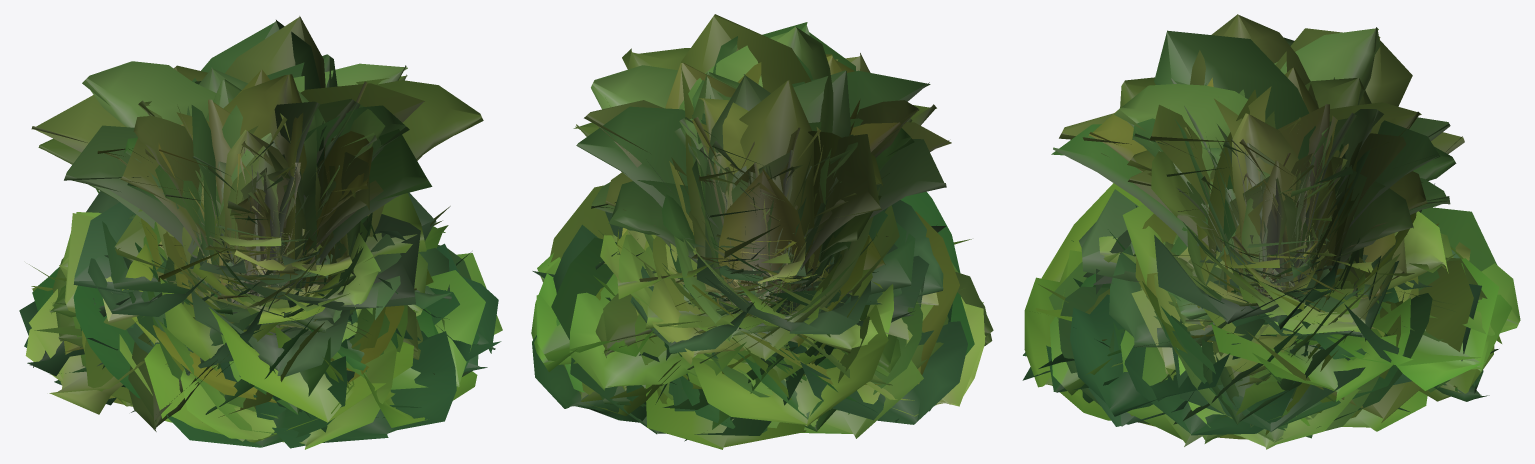
Rendered from lettuce.glb.
3 renders of one model, left to right at view 1: azimuth 30°, elevation 25°; view 2: azimuth 150°, elevation 25°; view 3: azimuth 270°, elevation 25°, orthographic.
Visible parts, largest first — view 1: v3_lo, v6_hi, v1_lo, v7_hi, v7_lo, v1_hi, v3_hi, v6_lo, v2_hi, v4_lo, v0_hi, v4_hi (+2 smaller); view 2: v7_lo, v1_hi, v3_lo, v6_hi, v3_hi, v1_lo, v7_hi, v4_lo, v2_lo, v0_hi, v6_lo, v2_hi (+2 smaller); view 3: v1_hi, v3_lo, v3_hi, v7_hi, v6_hi, v1_lo, v7_lo, v6_lo, v4_lo, v2_hi, v0_lo, v4_hi (+2 smaller).
Part boxes in pixels (bbox=[...]): v3_lo: bbox=[38, 20, 434, 414]; v6_hi: bbox=[19, 191, 501, 448]; v1_lo: bbox=[29, 193, 502, 443]; v7_hi: bbox=[49, 65, 483, 431]; v7_lo: bbox=[31, 16, 424, 422]; v1_hi: bbox=[25, 212, 477, 449]; v3_hi: bbox=[82, 61, 438, 372]; v6_lo: bbox=[73, 192, 487, 412]; v2_hi: bbox=[73, 212, 472, 432]; v4_lo: bbox=[64, 206, 450, 417]; v0_hi: bbox=[52, 205, 407, 433]; v4_hi: bbox=[82, 234, 433, 411]; v7_lo: bbox=[584, 14, 993, 369]; v1_hi: bbox=[531, 234, 984, 433]; v3_lo: bbox=[576, 22, 946, 419]; v6_hi: bbox=[532, 200, 967, 432]; v3_hi: bbox=[591, 26, 914, 431]; v1_lo: bbox=[536, 227, 985, 449]; v7_hi: bbox=[573, 48, 992, 376]; v4_lo: bbox=[548, 185, 959, 401]; v2_lo: bbox=[551, 237, 974, 435]; v0_hi: bbox=[556, 186, 948, 429]; v6_lo: bbox=[532, 210, 952, 441]; v2_hi: bbox=[637, 191, 960, 414]; v1_hi: bbox=[1024, 211, 1520, 449]; v3_lo: bbox=[1051, 30, 1450, 424]; v3_hi: bbox=[1080, 27, 1456, 427]; v7_hi: bbox=[1085, 14, 1455, 402]; v6_hi: bbox=[1022, 183, 1489, 435]; v1_lo: bbox=[1036, 183, 1501, 446]; v7_lo: bbox=[1059, 28, 1487, 383]; v6_lo: bbox=[1046, 189, 1481, 431]; v4_lo: bbox=[1196, 223, 1476, 422]; v2_hi: bbox=[1058, 228, 1432, 438]; v0_lo: bbox=[1049, 207, 1497, 392]; v4_hi: bbox=[1130, 212, 1494, 439].
Size of the model in its own units: 0.5343 by 0.3376 by 0.553.
